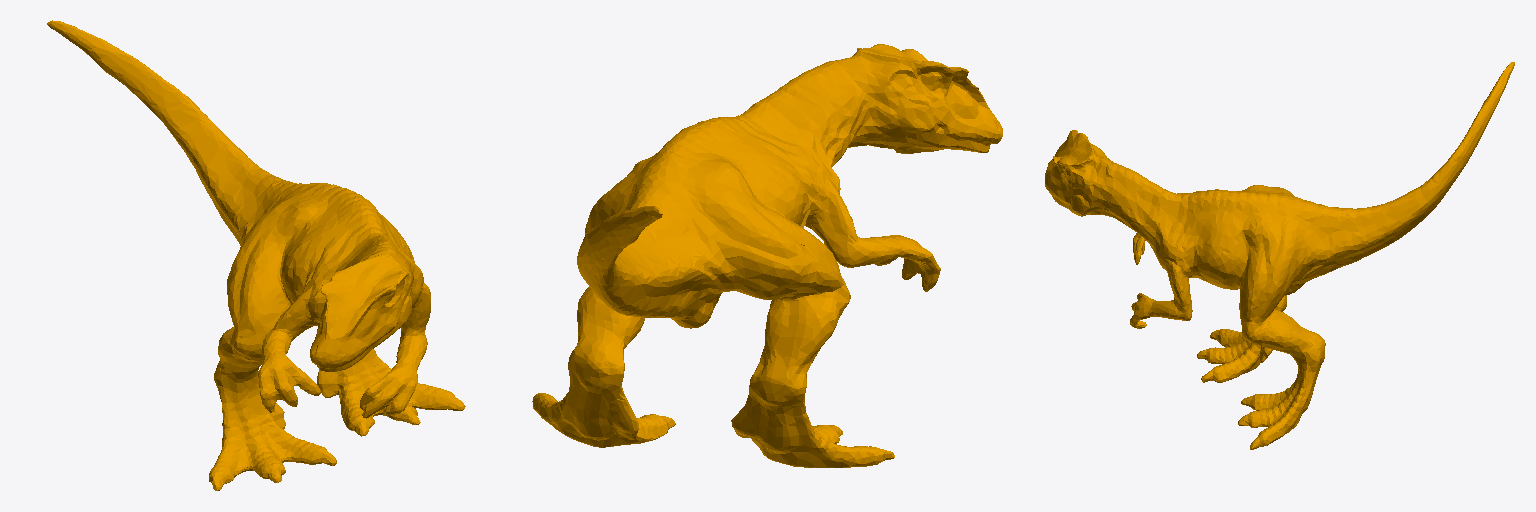
The robot description file, URDF, robot "lh0nc4xq":
<?xml version='1.0'?>

<robot name="lh0nc4xq">
    <static>false</static>
    <link name="link">
        <inertial>
            <mass value="0.10235472808676994"/>
            <inertia ixx="8.64696632704969e-05" ixy="-9.417336083616754e-06" ixz="3.206204109696834e-06"
                     iyy="4.248413669941106e-05" iyz="6.959122512191355e-06" izz="7.998188423494264e-05"/>
        </inertial>
        <collision name="collision">
            <geometry>
                <mesh filename="package://miscnet/train/lh0nc4xq/collision_model_vhacd.obj"/>
            </geometry>
        </collision>
        <visual name="visual">
            <geometry>
                <mesh filename="package://miscnet/train/lh0nc4xq/visual_model.obj"/>
            </geometry>
        </visual>
    </link>
</robot>

--- What the picture shows (computed from the rendered views, not written in the file) ---
The picture shows the robot from 3 angles, left to right: view 1: azimuth 30°, elevation 25°; view 2: azimuth 150°, elevation 25°; view 3: azimuth 270°, elevation 25°; orthographic projection.
Robot: lh0nc4xq — 1 links, 0 joints (none); root link link; default pose: all joints at 0.
Visible links, largest first — view 1: link; view 2: link; view 3: link.
Link boxes in pixels (x1,y1,x2,y2): link: (47,20,465,490); link: (532,44,1002,467); link: (1045,62,1514,449).
Size in the robot's own frame: 0.0808 by 0.1427 by 0.0947 metres.
1 mesh visuals loaded from 1 distinct referenced files (1 OBJ).
